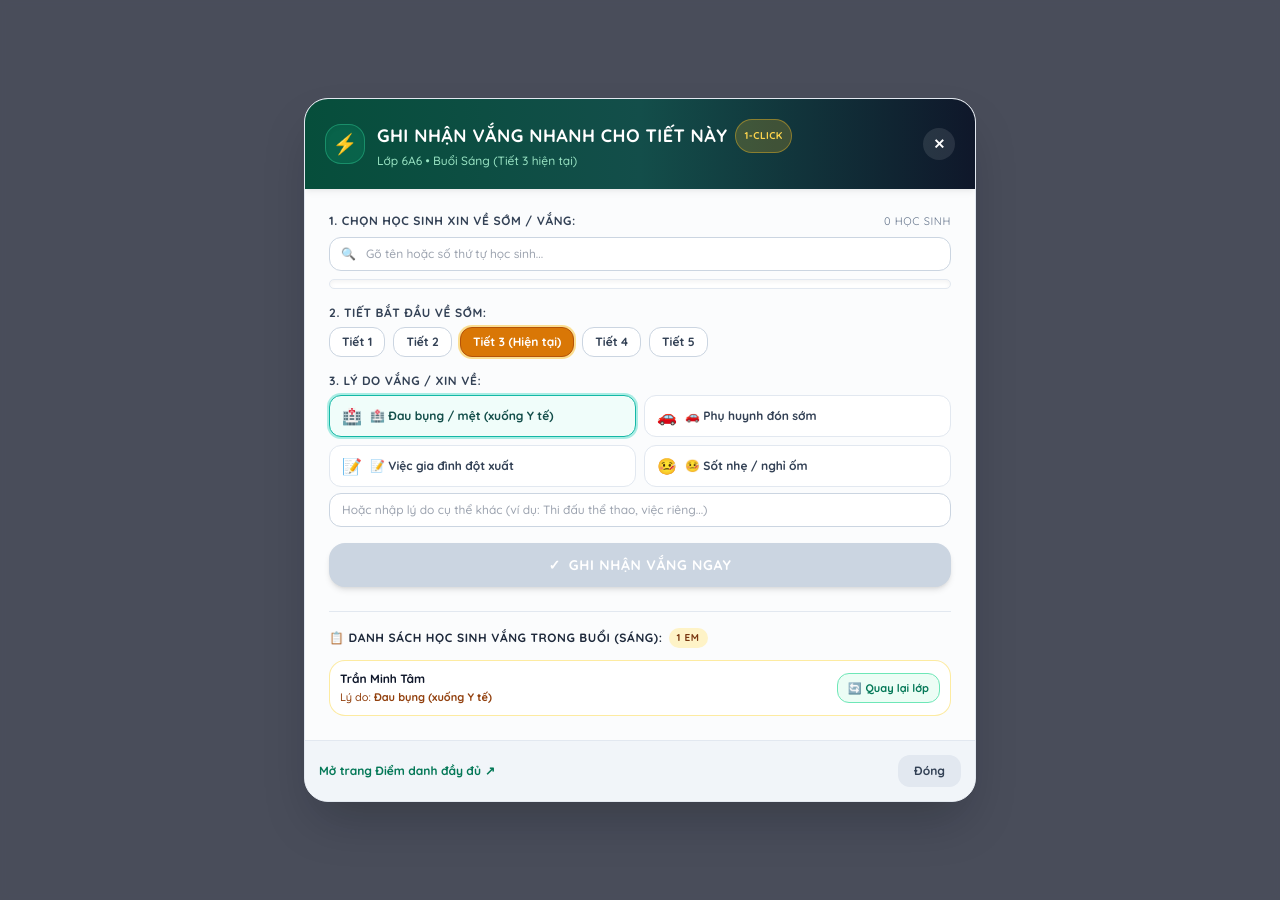
Test case: QuickAbsenceModal Component Tests › hiển thị danh sách học sinh đang vắng và cho phép bấm "Quay lại lớp" (1-chạm)
The image size is (1280, 900).
Expected: the text "Trần Minh Tâm" is shown, [340,671,425,686]
Expected: the text "Đau bụng (xuống Y tế)" is shown, [374,690,492,704]
Click the button "🔄 Quay lại lớp" at (888, 688), box [837,673,940,703]
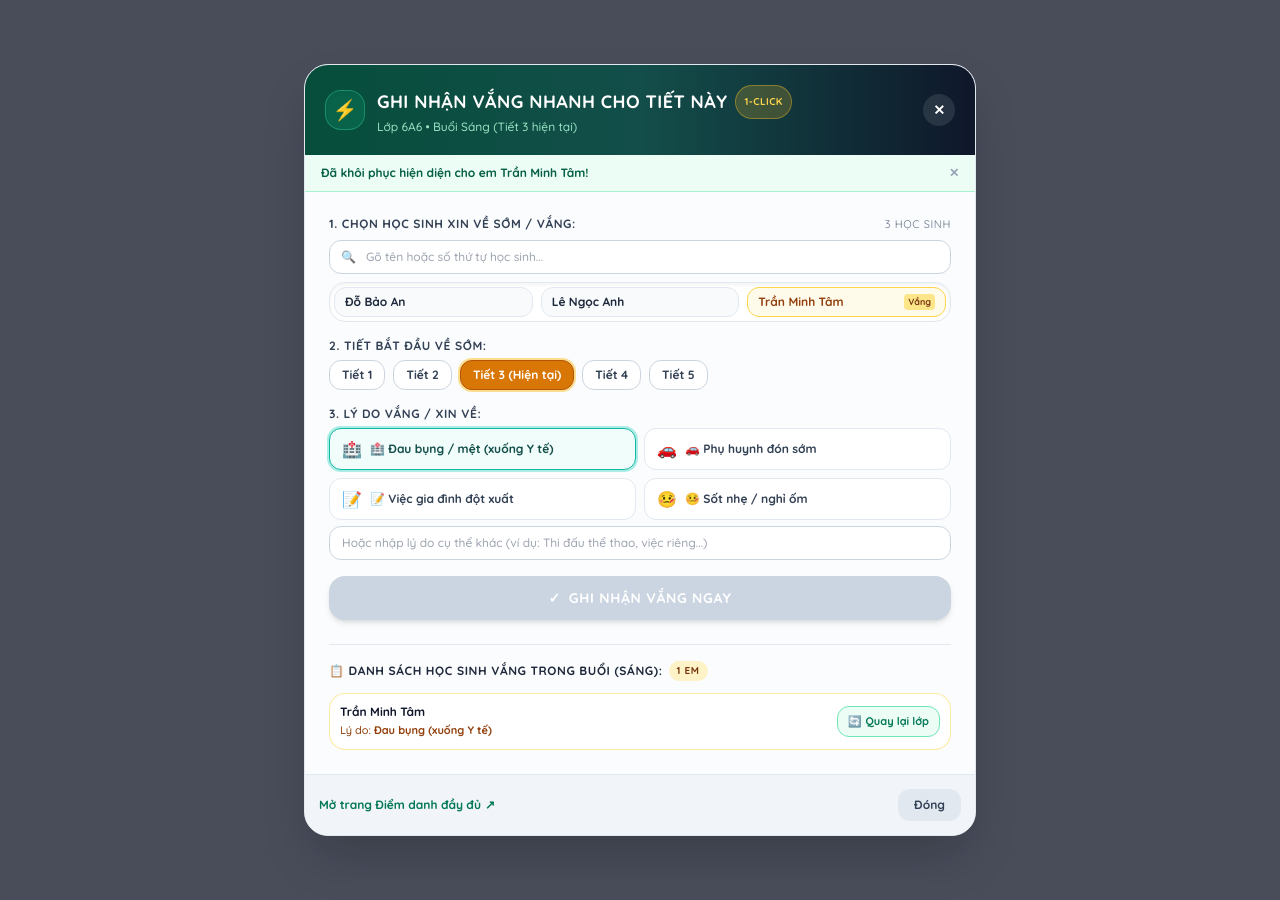
Expected: the text "Đã khôi phục hiện diện cho em Trần Minh Tâm!" is shown, [321,165,589,181]
